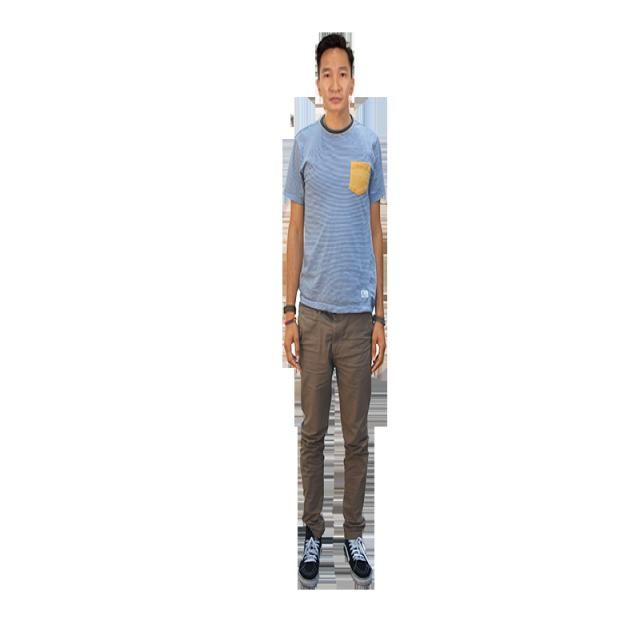jovem: (265, 31, 408, 593)
